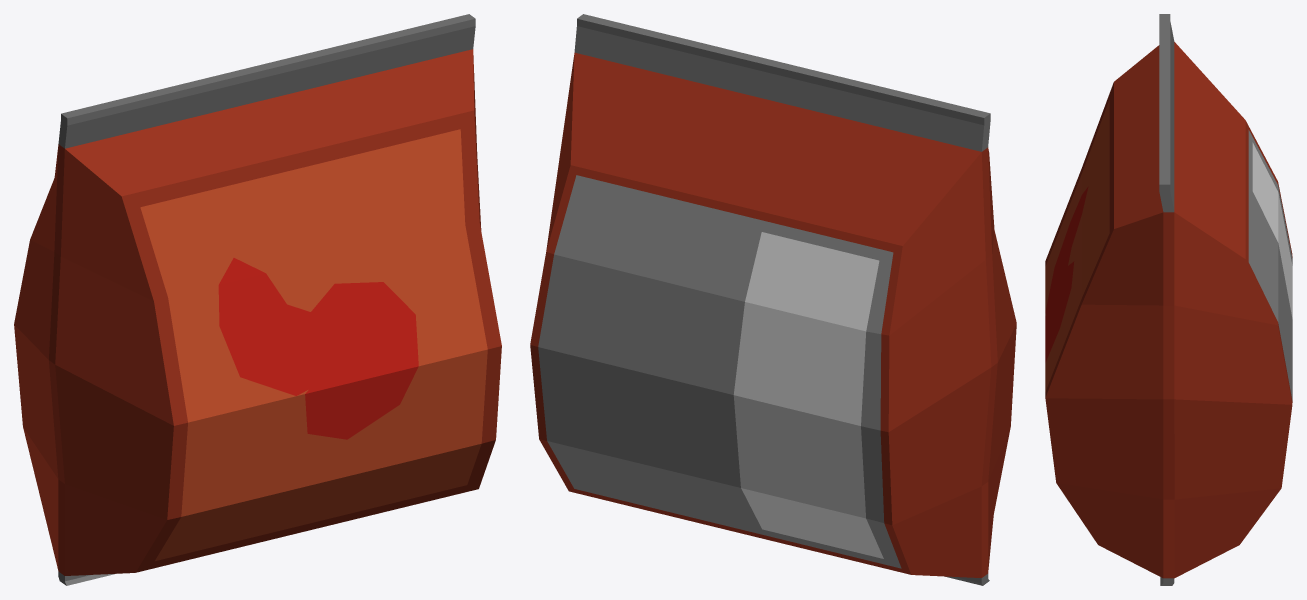
The model's file is Ketchup Potato Chips Small.fbx.
3 renders of one model, left to right at view 1: azimuth 30°, elevation 25°; view 2: azimuth 150°, elevation 25°; view 3: azimuth 270°, elevation 25°, orthographic. The views are drawn at different scales.
Parts seen in each view (by area): view 1: Ketchup Potato Chips Small; view 2: Ketchup Potato Chips Small; view 3: Ketchup Potato Chips Small.
Boxes of the visible parts, x1,y1,x2,y2 form: Ketchup Potato Chips Small: (14,14,501,585); Ketchup Potato Chips Small: (530,14,1016,585); Ketchup Potato Chips Small: (1045,14,1292,585).
Bounding box in the file's own units: 33.69 × 35.26 × 19.69.
1 material, 1 textured.
